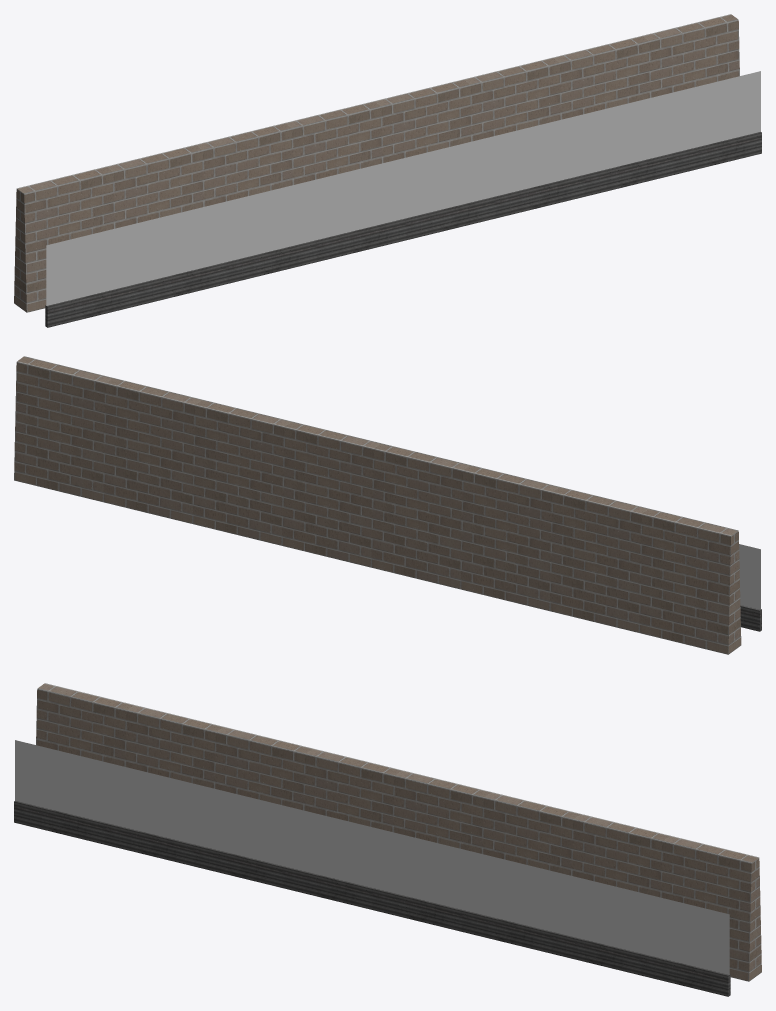
File: WallStraight.fbx
The picture shows the model from 3 angles, top to bottom: view 1: azimuth 30°, elevation 25°; view 2: azimuth 150°, elevation 25°; view 3: azimuth 330°, elevation 25°; orthographic projection.
Visible parts, largest first — view 1: Empty_Mesh; view 2: Empty_Mesh; view 3: Empty_Mesh.
Boxes of the visible parts, x1,y1,x2,y2 form: Empty_Mesh: [14, 14, 761, 327]; Empty_Mesh: [14, 356, 761, 654]; Empty_Mesh: [14, 683, 761, 996].
Size of the model in its own units: 32 by 5 by 2.6.
